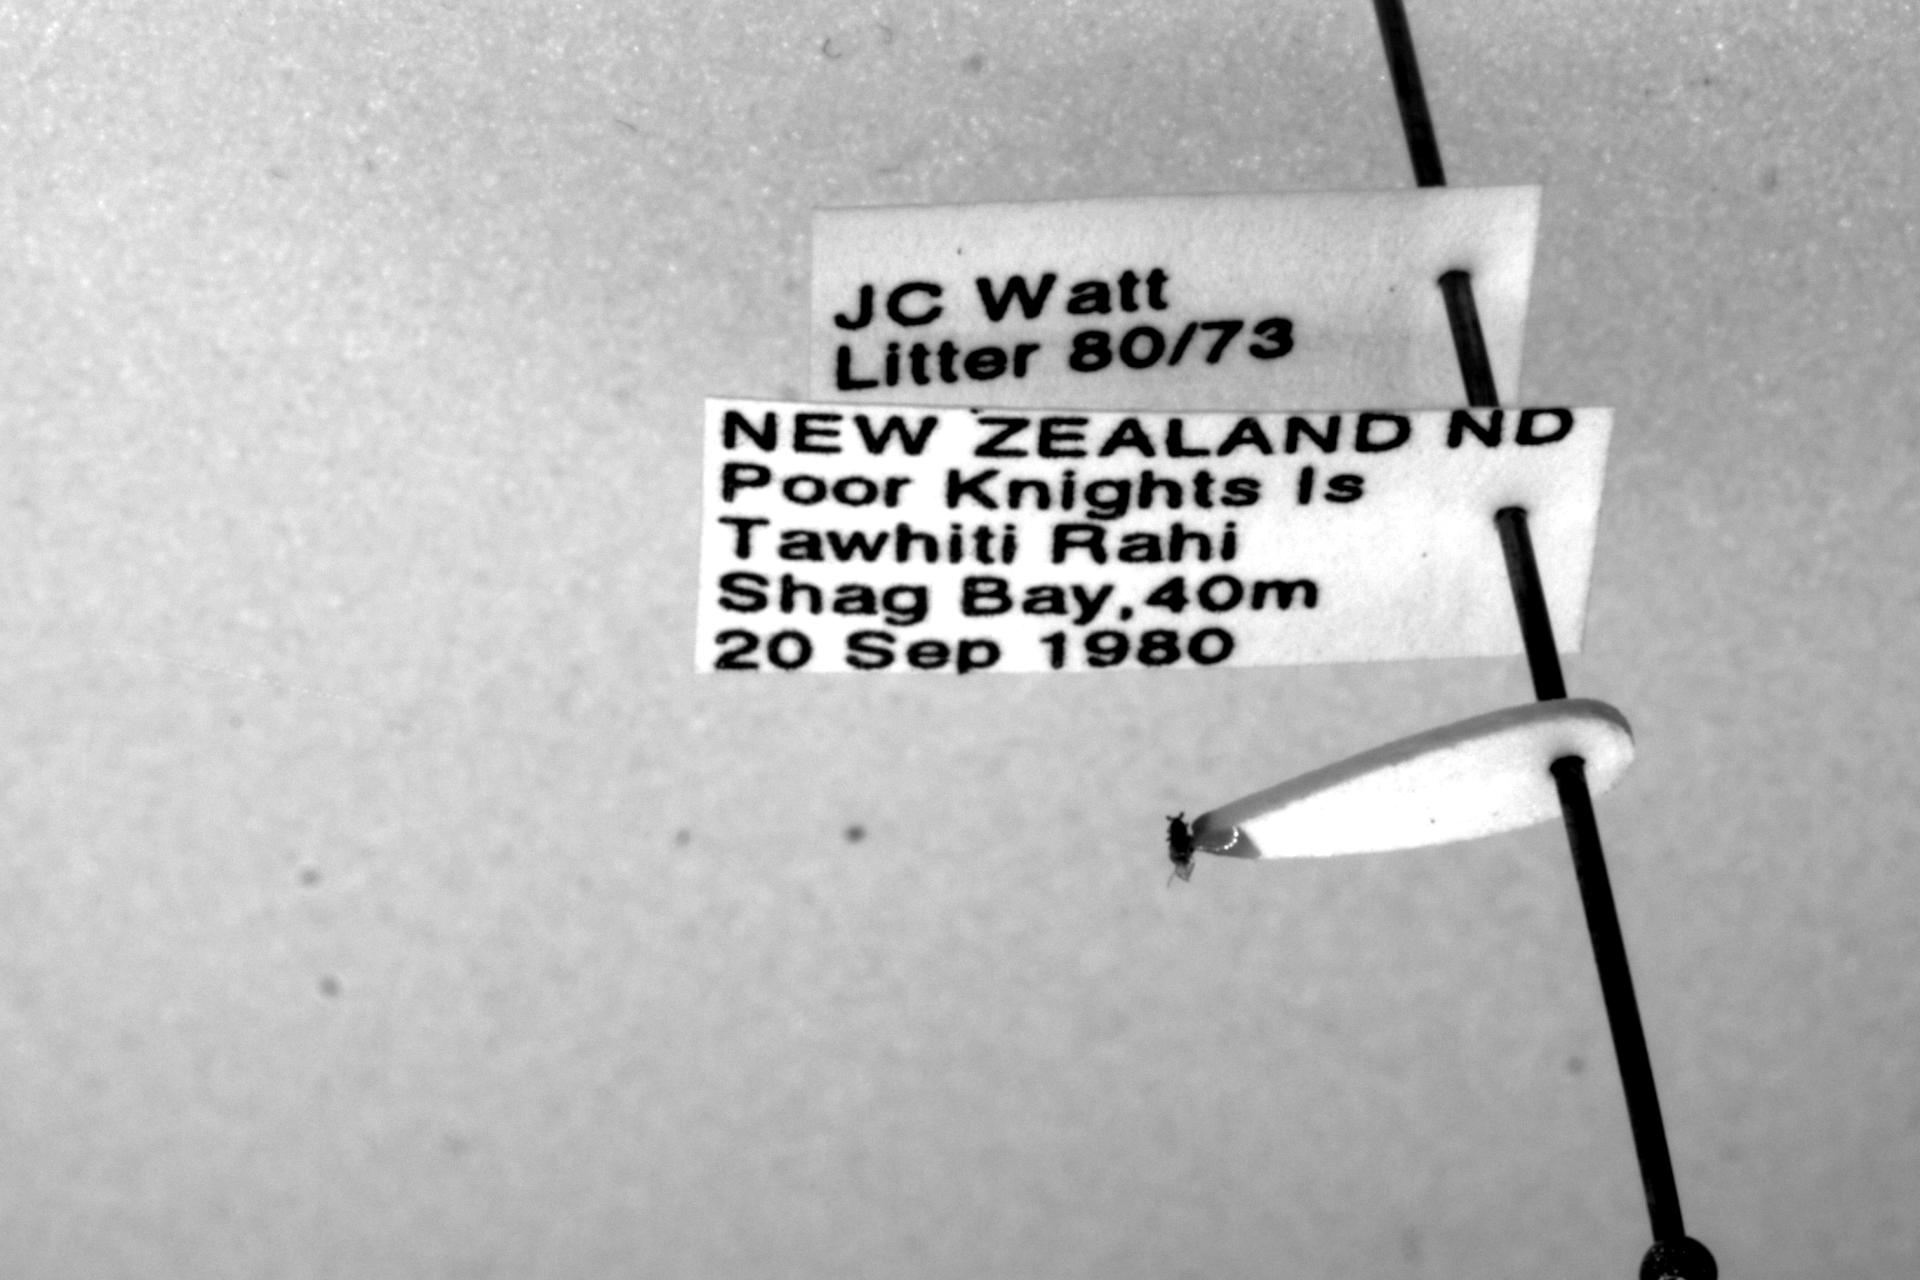typed_label: (697, 397, 1613, 674), (810, 184, 1541, 409)
